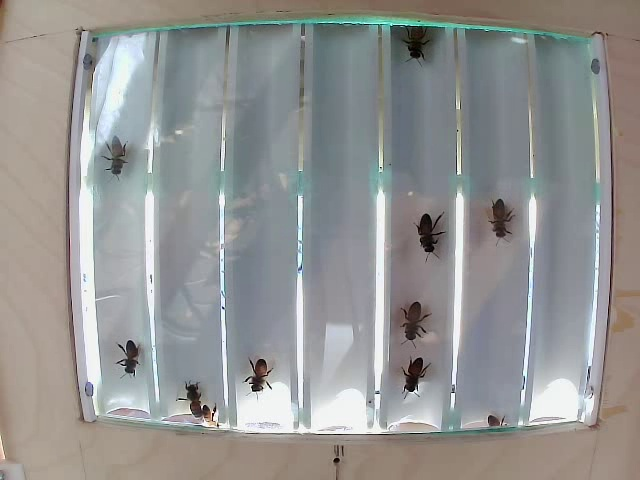bee: (473, 184, 509, 244), (393, 291, 428, 348), (94, 145, 136, 189), (407, 207, 441, 260), (399, 19, 433, 72), (390, 354, 432, 393), (171, 374, 210, 412), (111, 333, 147, 372), (241, 357, 274, 392)
